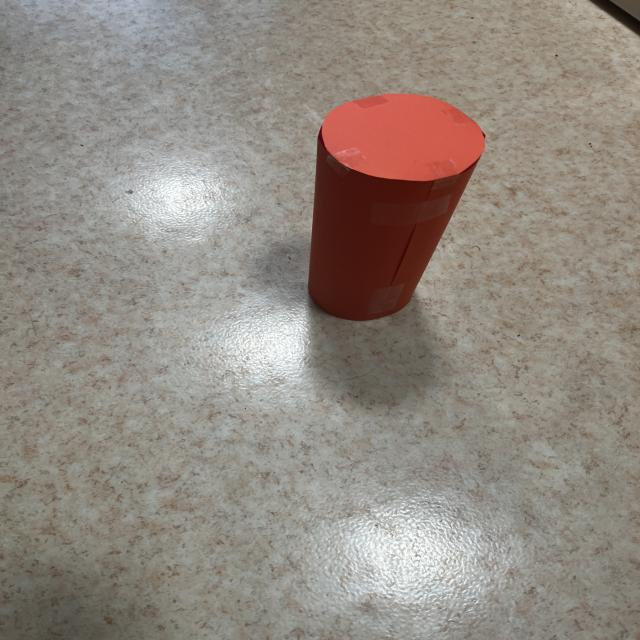przeszkoda: (308, 94, 485, 320)
